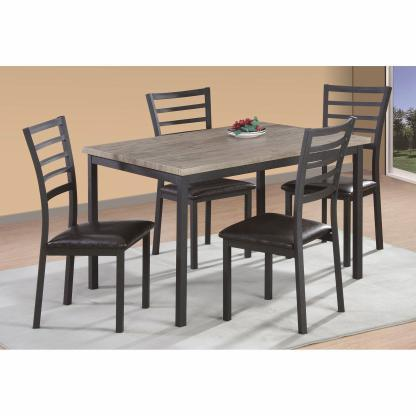chair: (211, 112, 358, 342), (17, 114, 158, 352), (289, 73, 403, 260), (148, 74, 256, 214)
table: (77, 115, 392, 325)
